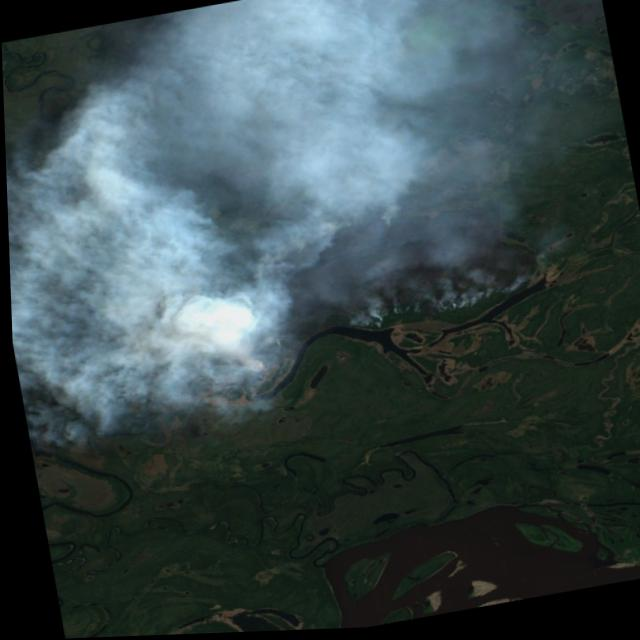fire: (339, 275, 540, 335)
